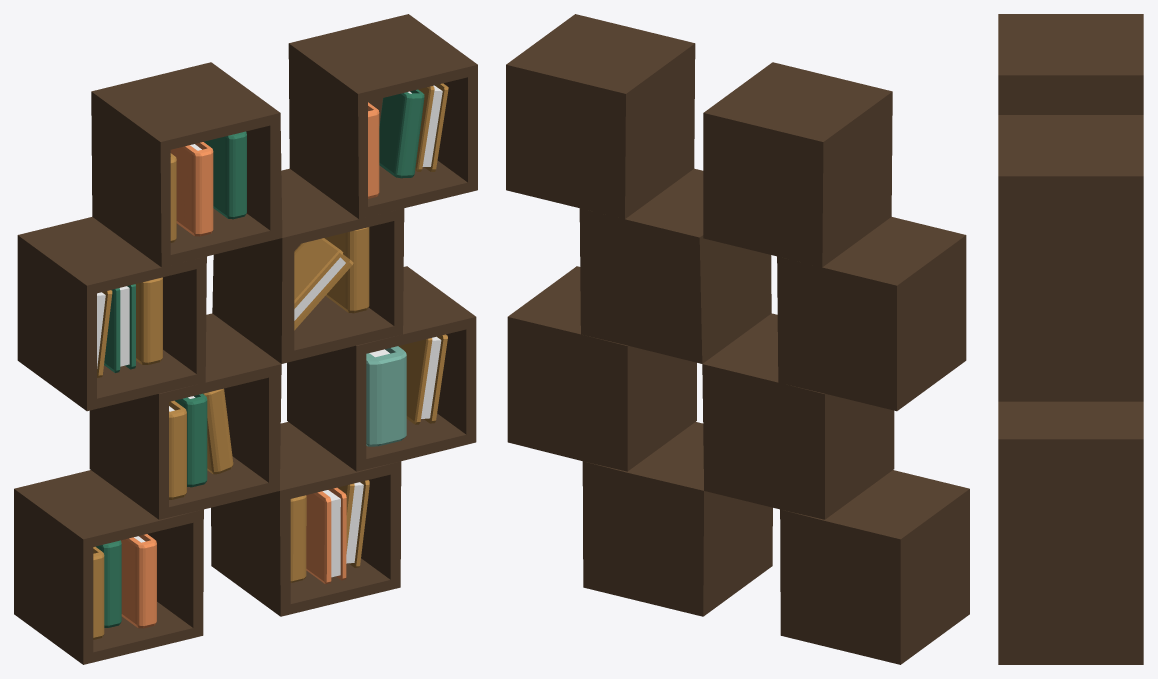
The model's file is Books&Bookshelves.fbx.
3 renders of one model, left to right at view 1: azimuth 30°, elevation 25°; view 2: azimuth 150°, elevation 25°; view 3: azimuth 270°, elevation 25°, orthographic. The views are drawn at different scales.
Visible parts, largest first — view 1: Cube, Cube.015, Cube.014, Cube.012, Cube.011, Cube.013, Cube.010, Cube.005, Cube.018, Cube.007, Cube.017; view 2: Cube; view 3: Cube.
Boxes of the visible parts, bbox=[...] form: Cube: bbox=[14, 14, 477, 664]; Cube.015: bbox=[170, 131, 246, 242]; Cube.014: bbox=[290, 480, 369, 584]; Cube.012: bbox=[368, 83, 448, 198]; Cube.011: bbox=[93, 534, 156, 639]; Cube.013: bbox=[169, 388, 233, 499]; Cube.010: bbox=[97, 277, 162, 377]; Cube.005: bbox=[366, 346, 406, 446]; Cube.018: bbox=[294, 238, 353, 330]; Cube.007: bbox=[398, 334, 447, 424]; Cube.017: bbox=[324, 227, 369, 313]; Cube: bbox=[506, 14, 969, 664]; Cube: bbox=[998, 14, 1143, 664].
Bounding box in the file's own units: 850 × 1038 × 259.
